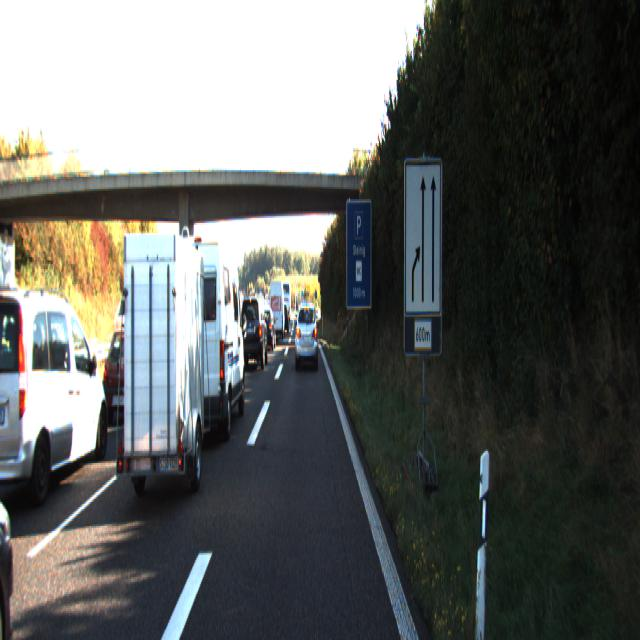Car: (113, 225, 212, 510), (0, 286, 112, 510), (170, 230, 247, 444), (0, 338, 44, 639), (0, 320, 59, 461), (104, 323, 165, 424), (238, 293, 268, 369), (295, 298, 318, 368), (269, 275, 285, 334), (258, 305, 276, 350)
